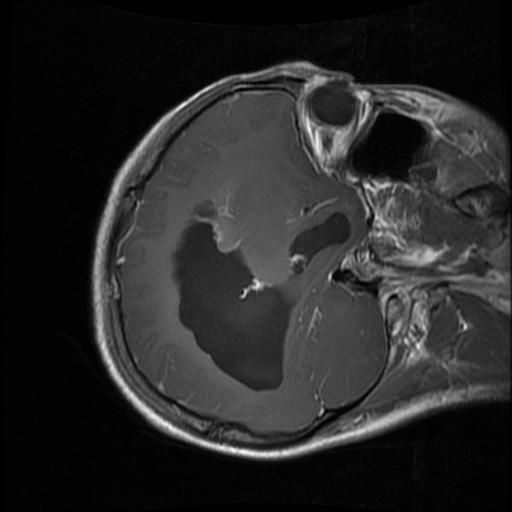glioma: (170, 202, 352, 391)
